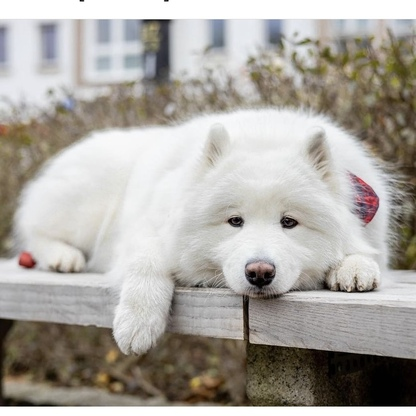samoyed: (8, 104, 406, 357)
